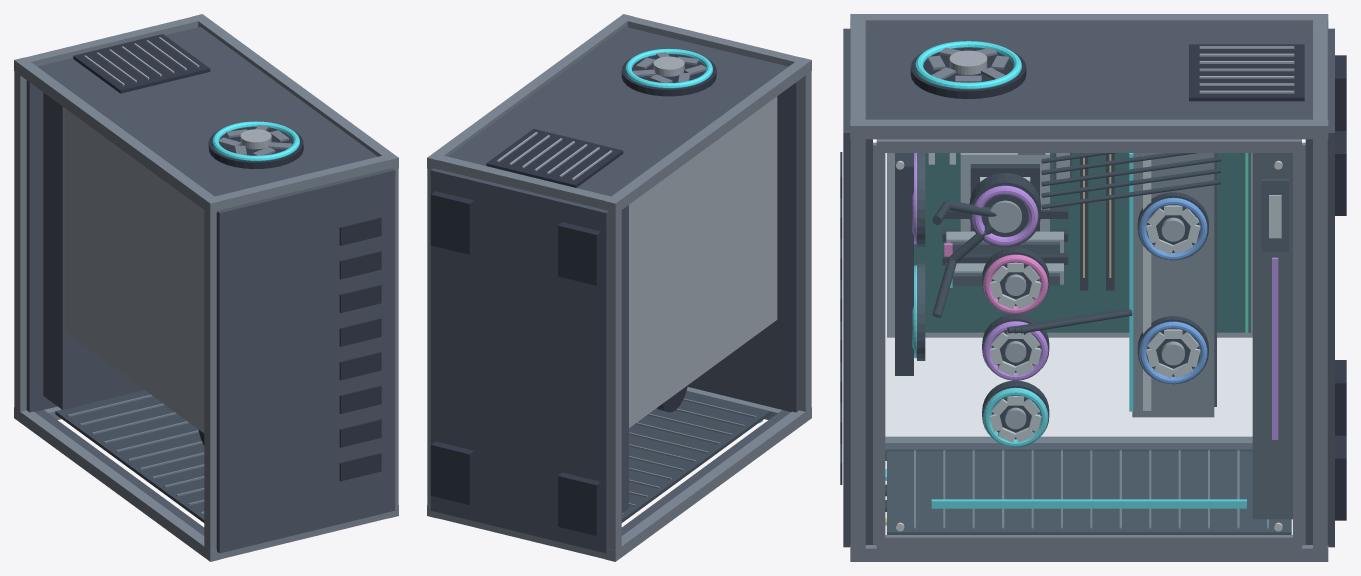
The model's file is gaming-pc.glb.
3 renders of one model, left to right at view 1: azimuth 30°, elevation 25°; view 2: azimuth 150°, elevation 25°; view 3: azimuth 270°, elevation 25°, orthographic. The views are drawn at different scales.
Visible parts, largest first — view 1: 014_case_top, 068_motherboard_tray, 015_rear_panel, 144_psu_cover, 020_front_mesh, 013_case_bottom, 009_case_depth_rail, 002_case_corner_post, 005_case_depth_rail, 001_case_corner_post, 060_psu_grille, 004_case_corner_post (+16 smaller); view 2: 013_case_bottom, 068_motherboard_tray, 015_rear_panel, 014_case_top, 020_front_mesh, 005_case_depth_rail, 002_case_corner_post, 009_case_depth_rail, 001_case_corner_post, 060_psu_grille, 004_case_corner_post, 008_case_width_rail (+13 smaller); view 3: 189_tempered_glass_panel, 015_rear_panel, 020_front_mesh, 069_motherboard_pcb, 144_psu_cover, 113_gpu_shroud, 004_case_corner_post, 014_case_top, 013_case_bottom, 010_case_depth_rail, 003_case_corner_post, 006_case_depth_rail (+53 smaller).
Part boxes in pixels (x1,y1,x2,y2): 014_case_top: (216, 168, 395, 553); 068_motherboard_tray: (64, 108, 204, 433); 015_rear_panel: (37, 27, 377, 196); 144_psu_cover: (43, 92, 144, 409); 020_front_mesh: (55, 390, 204, 522); 013_case_bottom: (26, 80, 57, 412); 009_case_depth_rail: (204, 204, 216, 555); 002_case_corner_post: (14, 57, 220, 214); 005_case_depth_rail: (14, 69, 26, 416); 001_case_corner_post: (14, 407, 220, 561); 060_psu_grille: (73, 34, 210, 93); 004_case_corner_post: (192, 14, 398, 169); 013_case_bottom: (430, 168, 609, 553); 068_motherboard_tray: (629, 96, 777, 427); 015_rear_panel: (448, 27, 788, 196); 014_case_top: (687, 80, 799, 412); 020_front_mesh: (621, 391, 770, 522); 005_case_depth_rail: (609, 205, 621, 556); 002_case_corner_post: (605, 57, 811, 214); 009_case_depth_rail: (799, 69, 811, 413); 001_case_corner_post: (605, 407, 811, 561); 060_psu_grille: (486, 128, 623, 187); 004_case_corner_post: (427, 14, 633, 169); 008_case_width_rail: (436, 154, 614, 209); 189_tempered_glass_panel: (886, 153, 1292, 534); 015_rear_panel: (871, 25, 1307, 119); 020_front_mesh: (887, 451, 1291, 534); 069_motherboard_pcb: (914, 153, 1250, 332); 144_psu_cover: (1252, 153, 1292, 519); 113_gpu_shroud: (1132, 153, 1214, 417); 004_case_corner_post: (850, 119, 1328, 139); 014_case_top: (843, 28, 872, 547); 013_case_bottom: (1305, 28, 1334, 547); 010_case_depth_rail: (850, 132, 865, 548); 003_case_corner_post: (850, 545, 1328, 561); 006_case_depth_rail: (1313, 132, 1327, 548).
Size of the model in its own units: 0.2585 by 0.472 by 0.482.
